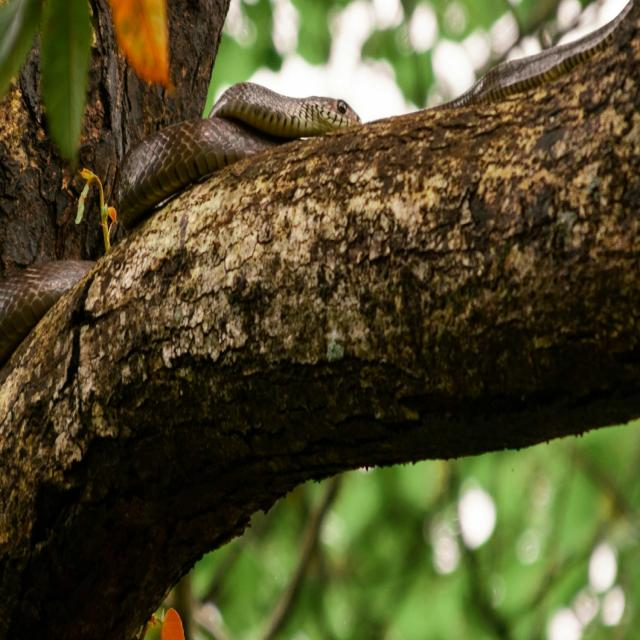Snake: (0, 0, 637, 390)
